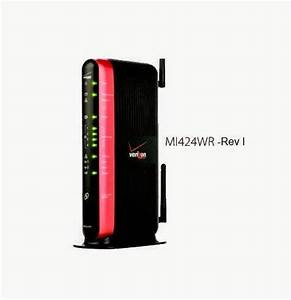Verizon Router: (66, 36, 181, 257)
